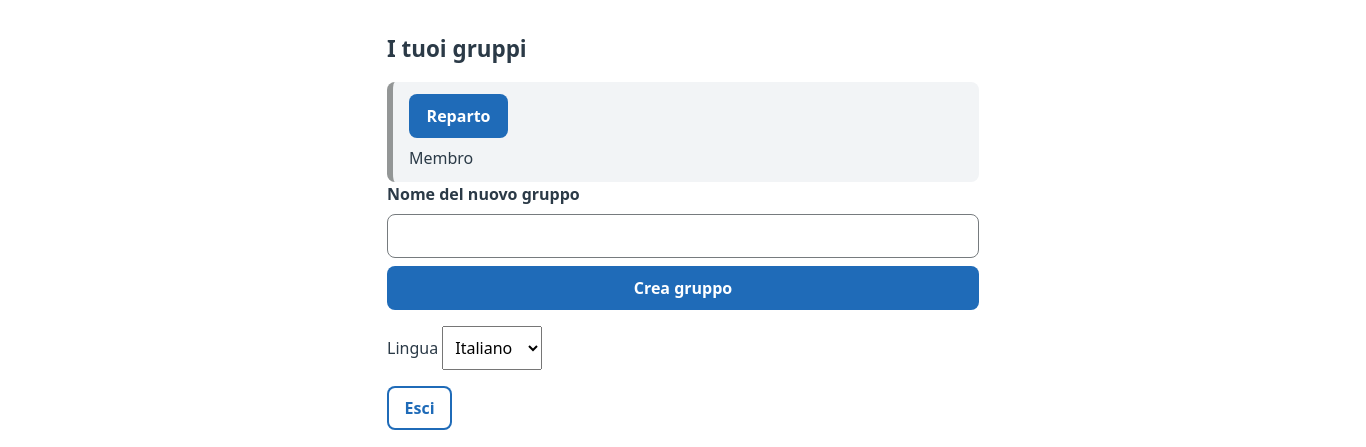
Test case: a plain member has no Gestione link, and the page tells them why if they open it
What coordinates should you click on to do the following:
click the button "Reparto"
I would click on:
 (459, 116)
Its box is [409, 94, 508, 138].
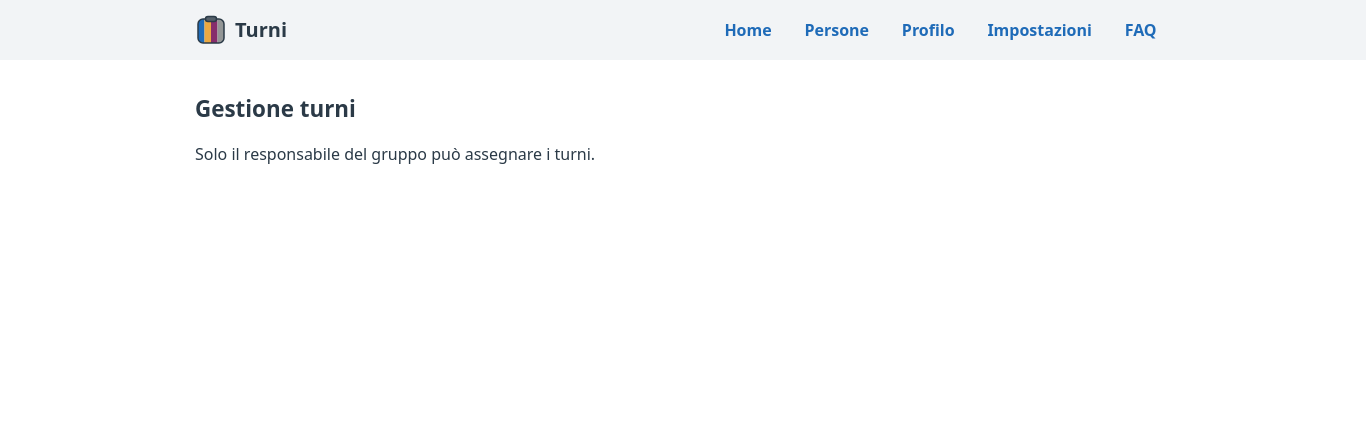
Now the navigation bar is shown, box [724, 19, 1157, 41]
Now the text "Solo il responsabile del gruppo può assegnare i turni." is shown, box [195, 143, 595, 165]
